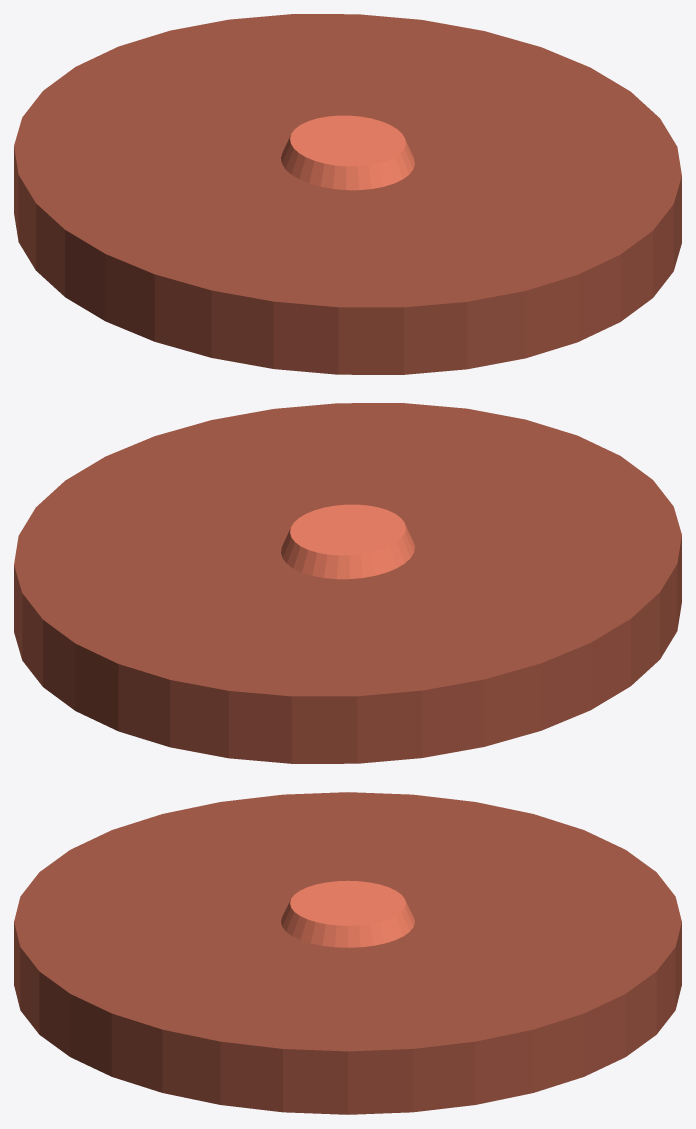
Rendered from Nipple.fbx.
3 views of the same model, one above another, from view 1: azimuth 30°, elevation 25°; view 2: azimuth 150°, elevation 25°; view 3: azimuth 270°, elevation 25° (orthographic). The views are drawn at different scales.
Parts seen in each view (by area): view 1: Cylinder; view 2: Cylinder; view 3: Cylinder.
Boxes of the visible parts, <box> form: Cylinder: <box>14,14,681,374</box>; Cylinder: <box>14,403,681,763</box>; Cylinder: <box>14,792,681,1114</box>.
Bounding box in the file's own units: 184 × 27.06 × 200.
